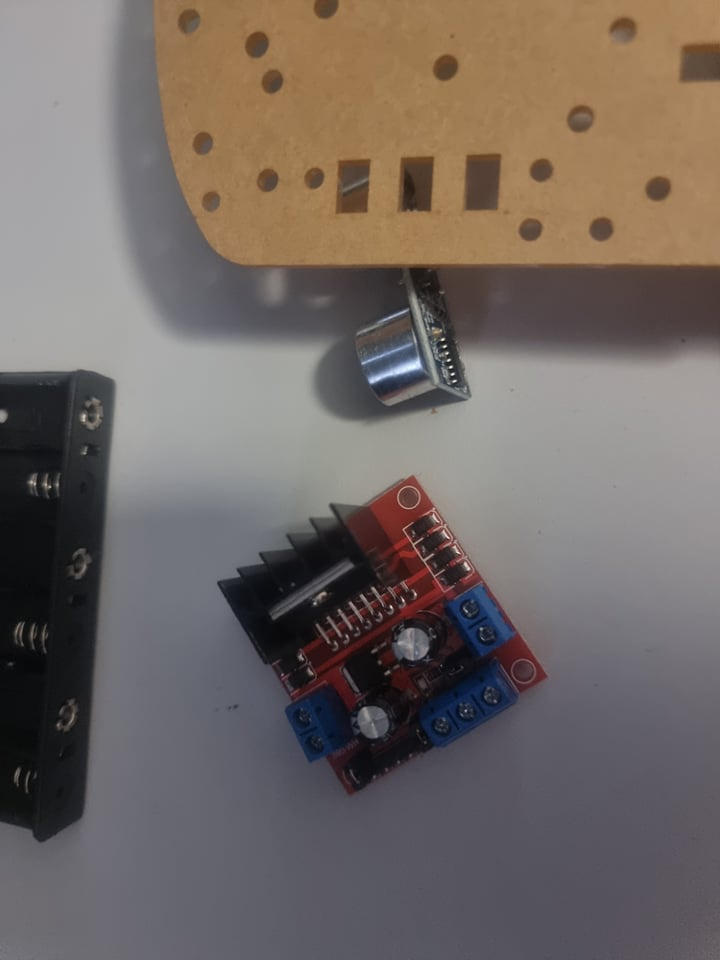BATTERY BOX: (0, 363, 122, 846)
MOTOR: (211, 475, 545, 803)
SENSOR: (331, 274, 482, 416)
